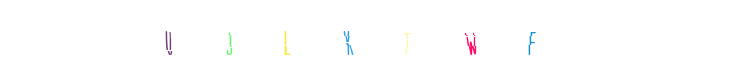F: (431, 0, 511, 80)
J: (190, 0, 270, 80)
K: (295, 0, 375, 80)
L: (246, 0, 326, 80)
T: (332, 0, 412, 80)
U: (128, 0, 208, 80)
W: (375, 0, 455, 80)
